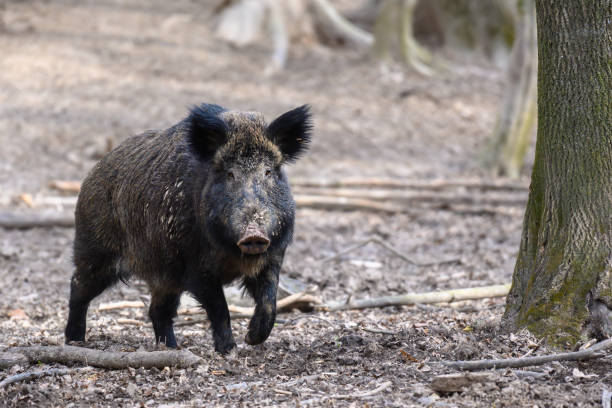pig: (64, 107, 292, 357)
